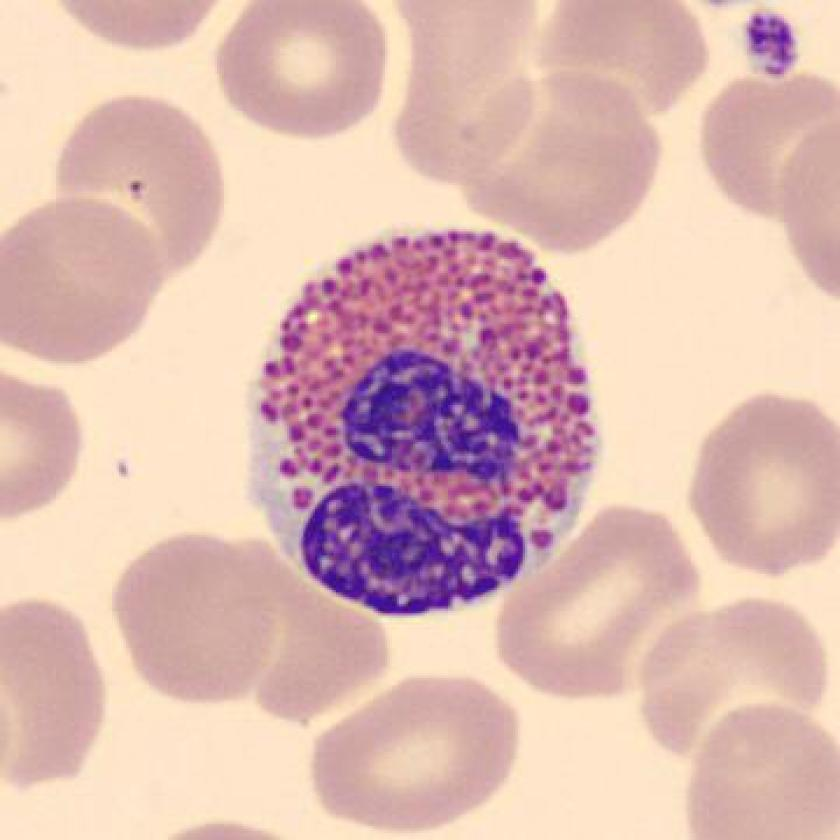eosinophil: (230, 214, 615, 623)
